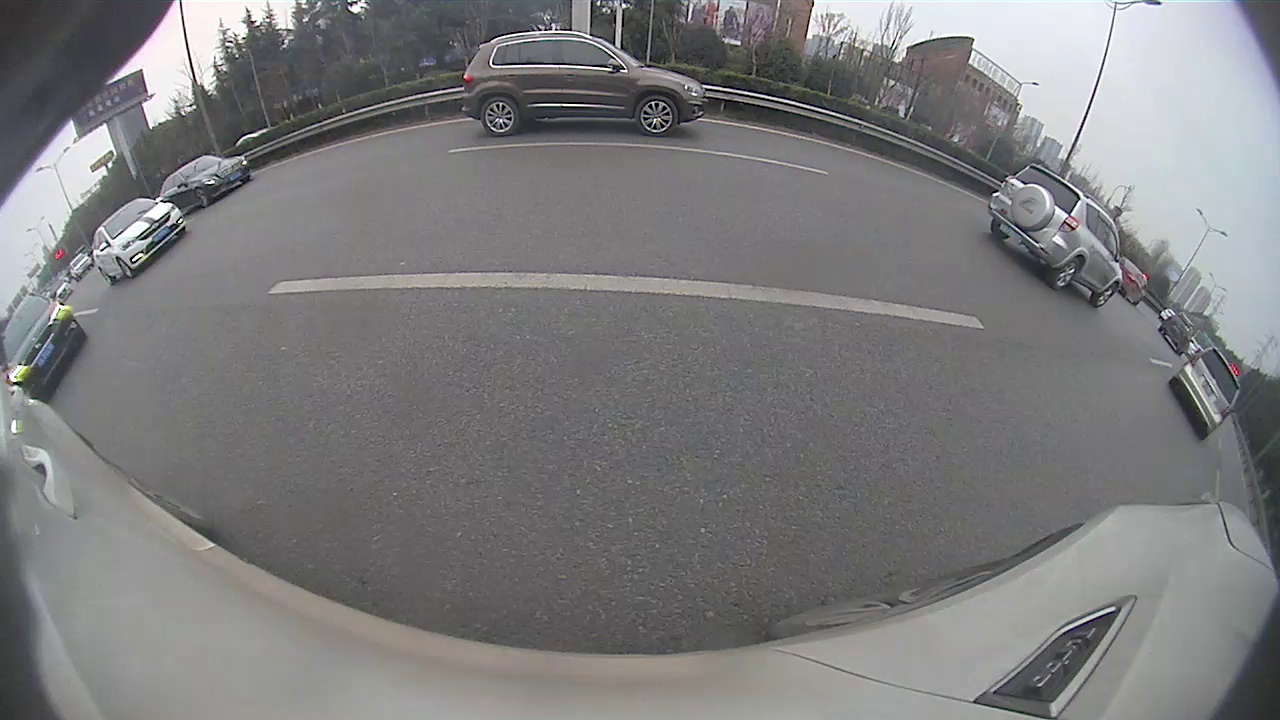car: (462, 30, 704, 138), (989, 160, 1128, 307), (1, 294, 87, 404), (91, 197, 186, 285), (1169, 342, 1241, 439), (157, 153, 251, 208), (1158, 309, 1196, 356)
front: (634, 95, 677, 138), (1088, 285, 1116, 308), (117, 259, 137, 280), (194, 188, 209, 207)
rear: (479, 95, 521, 137), (1049, 252, 1082, 291)
